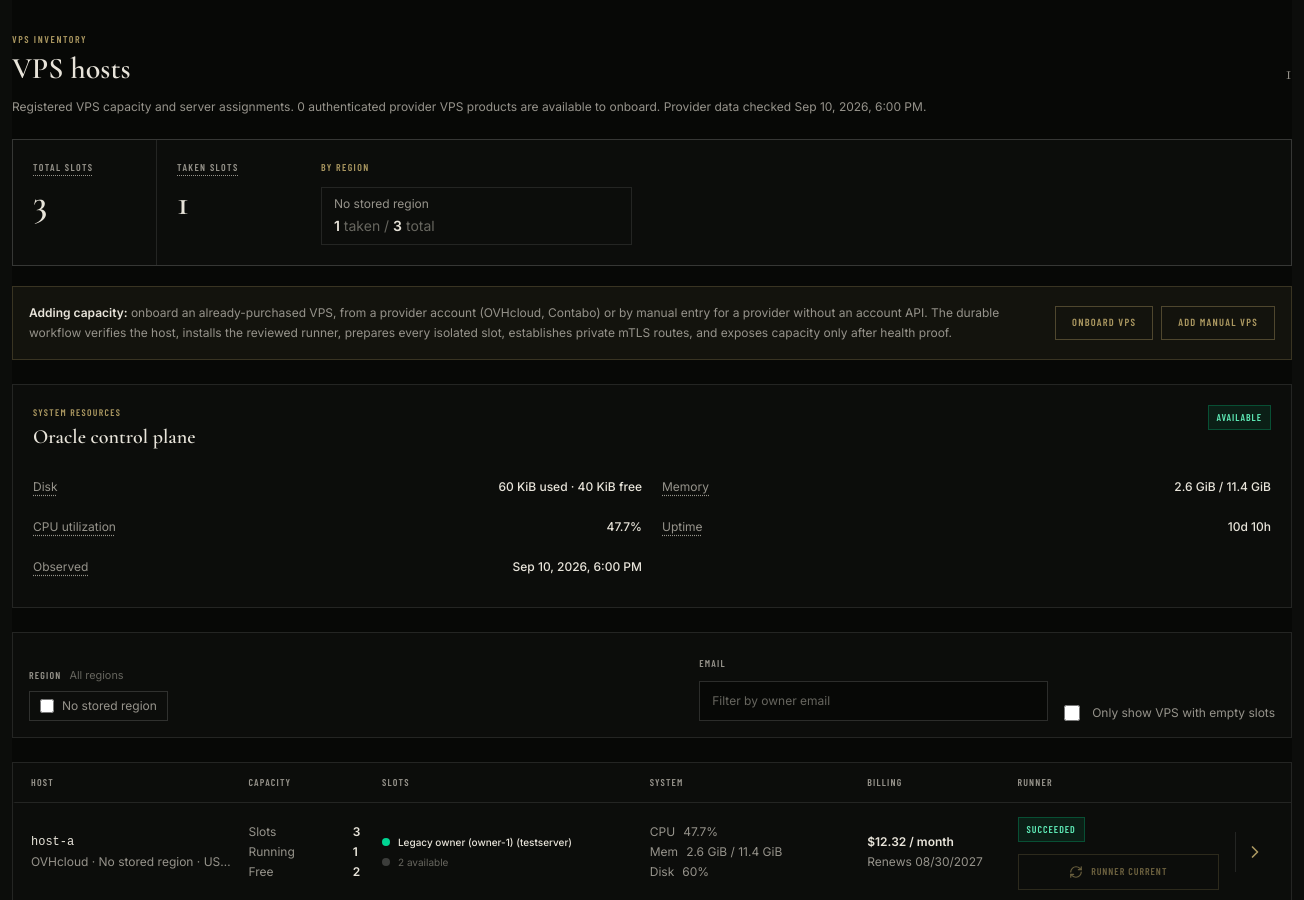
updates readings in place without overlapping slow requests or collapsing details
Click the button named "Expand details for host-a": (1255, 852) [1235,832,1275,872]
Wait 45000 ms
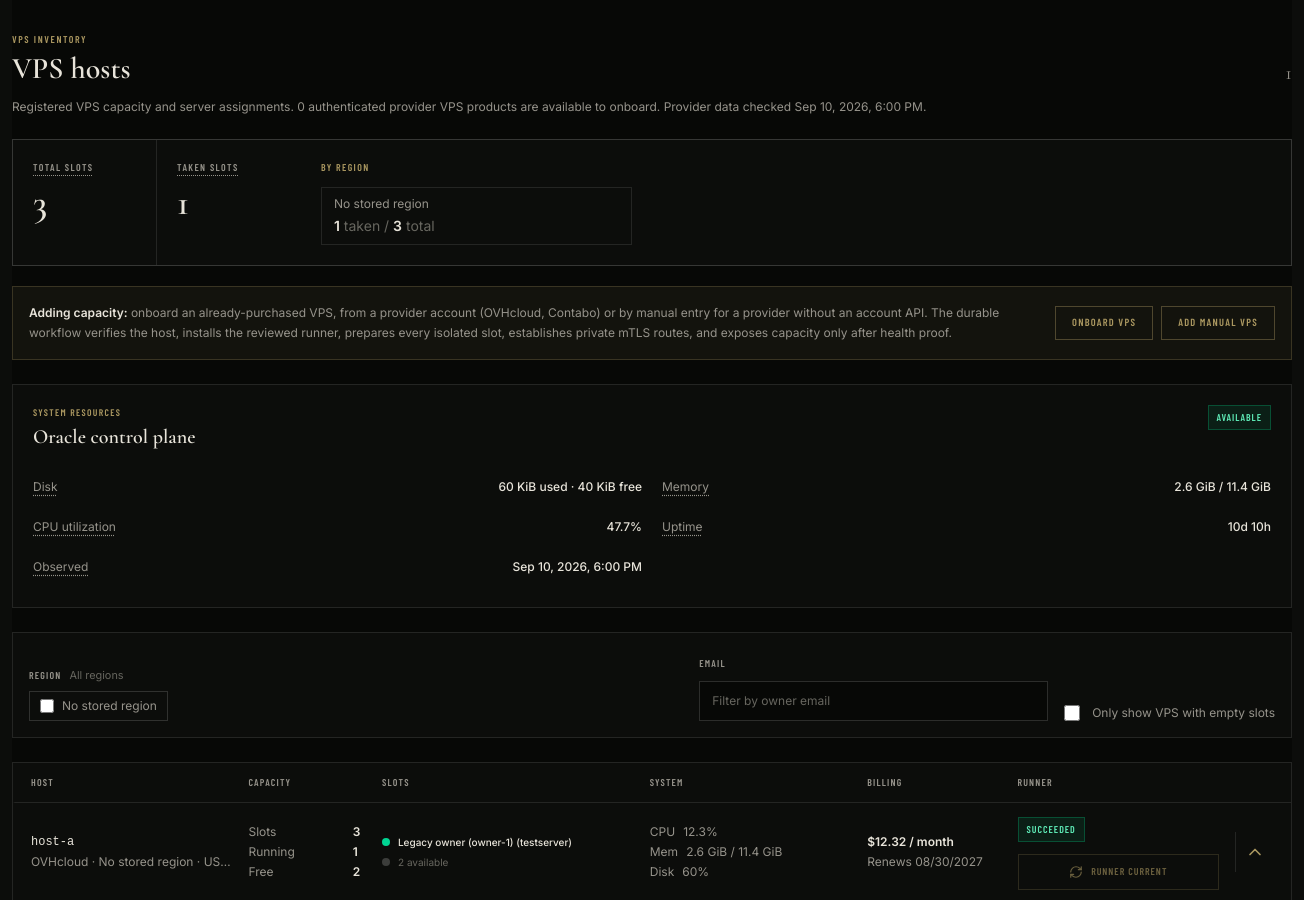
Expected: the text "47.7%" is shown, [607,519,642,535]
Result: the text "12.3%" is shown at [683,824,718,840]
